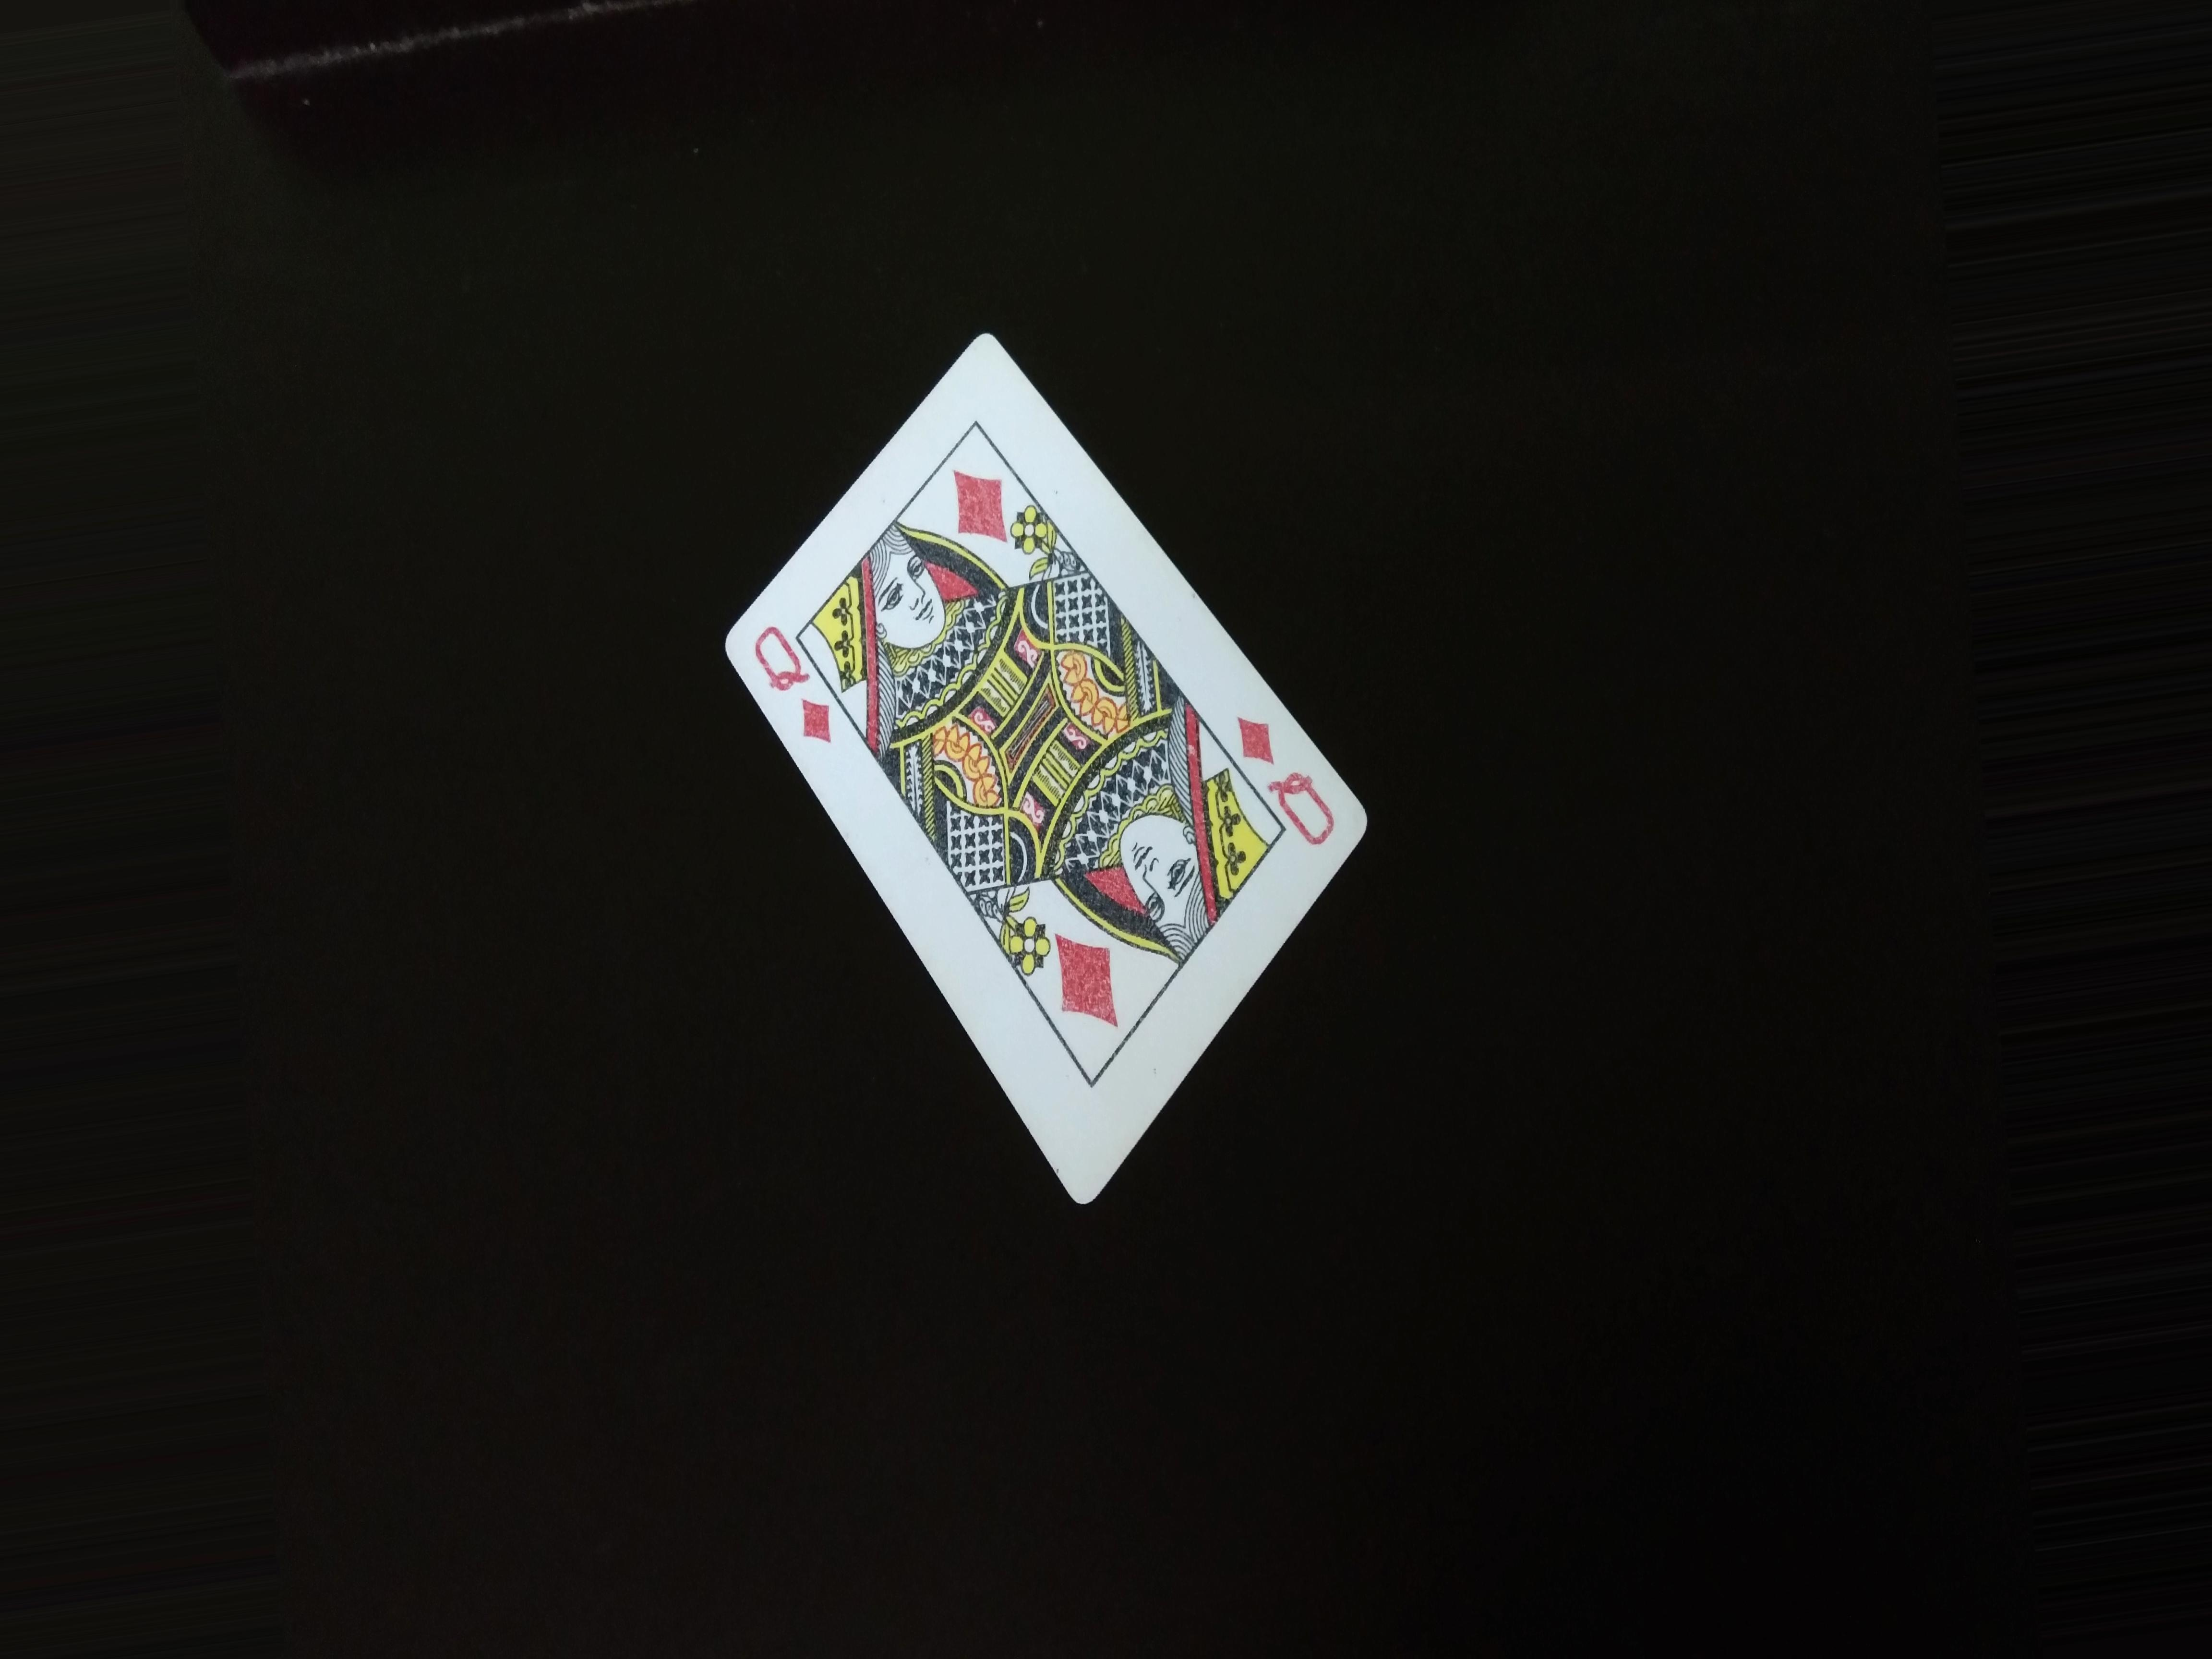QD: (752, 615, 843, 755)
